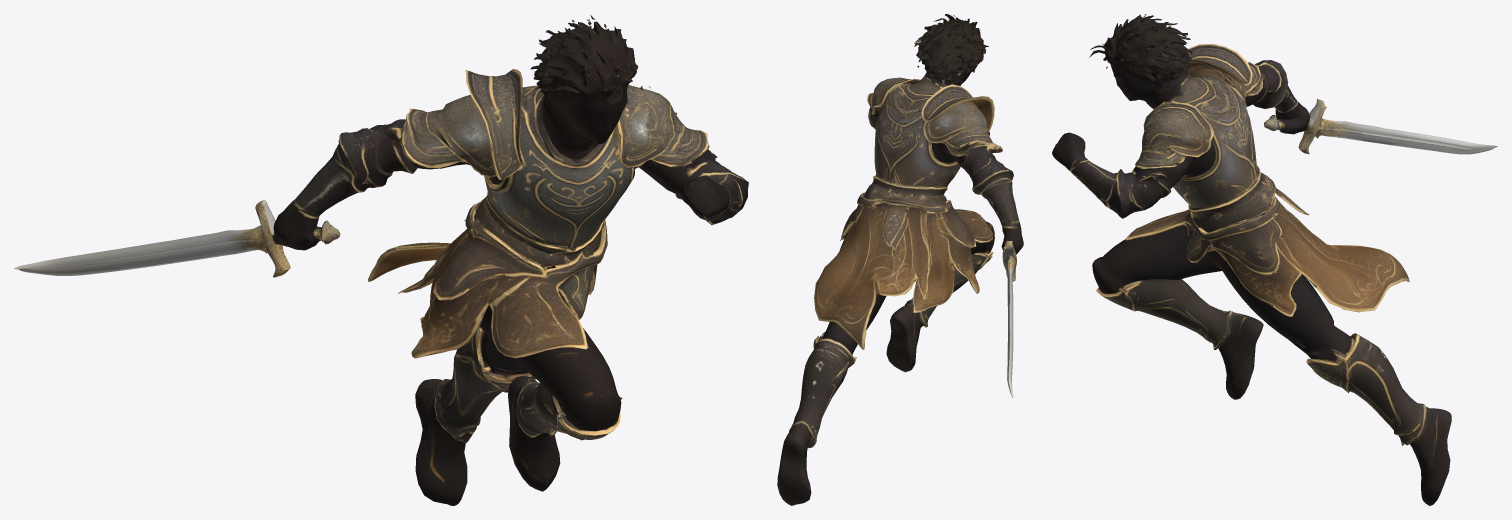
Rendered from solari_hero.glb.
The picture shows the model from 3 angles, left to right: view 1: azimuth 30°, elevation 25°; view 2: azimuth 150°, elevation 25°; view 3: azimuth 270°, elevation 25°; orthographic projection. The views are drawn at different scales.
Size of the model in its own units: 1.47 by 1.9 by 1.63.
1 material, 1 textured.
